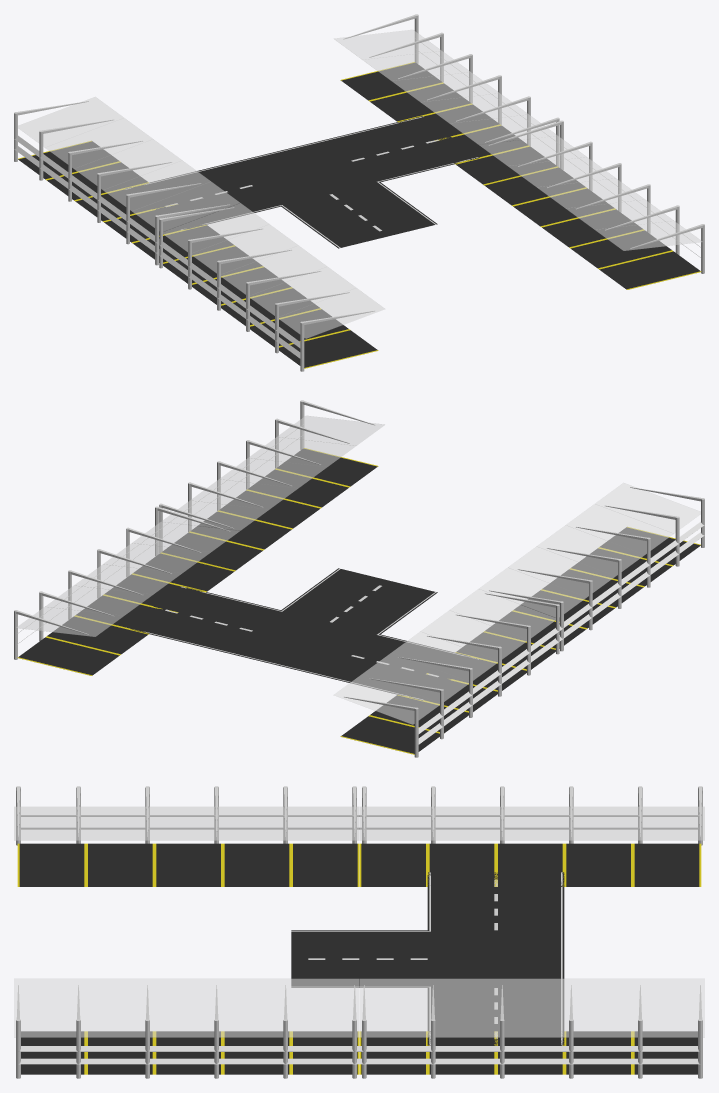
File: Roads.fbx
3 views of the same model, one above another, from view 1: azimuth 30°, elevation 25°; view 2: azimuth 150°, elevation 25°; view 3: azimuth 270°, elevation 25° (orthographic). The views are drawn at different scales.
Parts seen in each view (by area): view 1: Parking Space Shade, Parking Space, T Cross, Straight Road; view 2: Parking Space Shade, Parking Space, T Cross, Straight Road; view 3: Parking Space Shade, Parking Space, T Cross, Straight Road.
Boxes of the visible parts, left/top/right/bottom form: Parking Space Shade: left=14, top=14, right=704, bottom=371; Parking Space: left=18, top=62, right=701, bottom=368; T Cross: left=125, top=116, right=479, bottom=248; Straight Road: left=281, top=182, right=437, bottom=248; Parking Space Shade: left=14, top=400, right=704, bottom=757; Parking Space: left=17, top=448, right=700, bottom=754; T Cross: left=125, top=569, right=478, bottom=700; Straight Road: left=281, top=568, right=437, bottom=634; Parking Space Shade: left=14, top=786, right=704, bottom=1078; Parking Space: left=17, top=843, right=701, bottom=1074; T Cross: left=291, top=872, right=564, bottom=1045; Straight Road: left=291, top=930, right=427, bottom=987.
Bounding box in the file's own units: 4068 × 466 × 5056.
